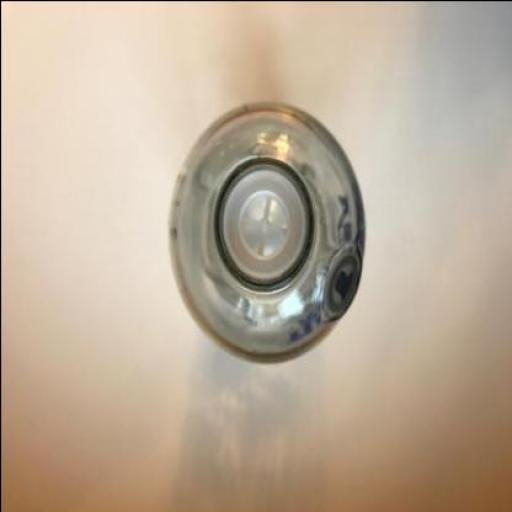glass: (165, 102, 364, 364)
